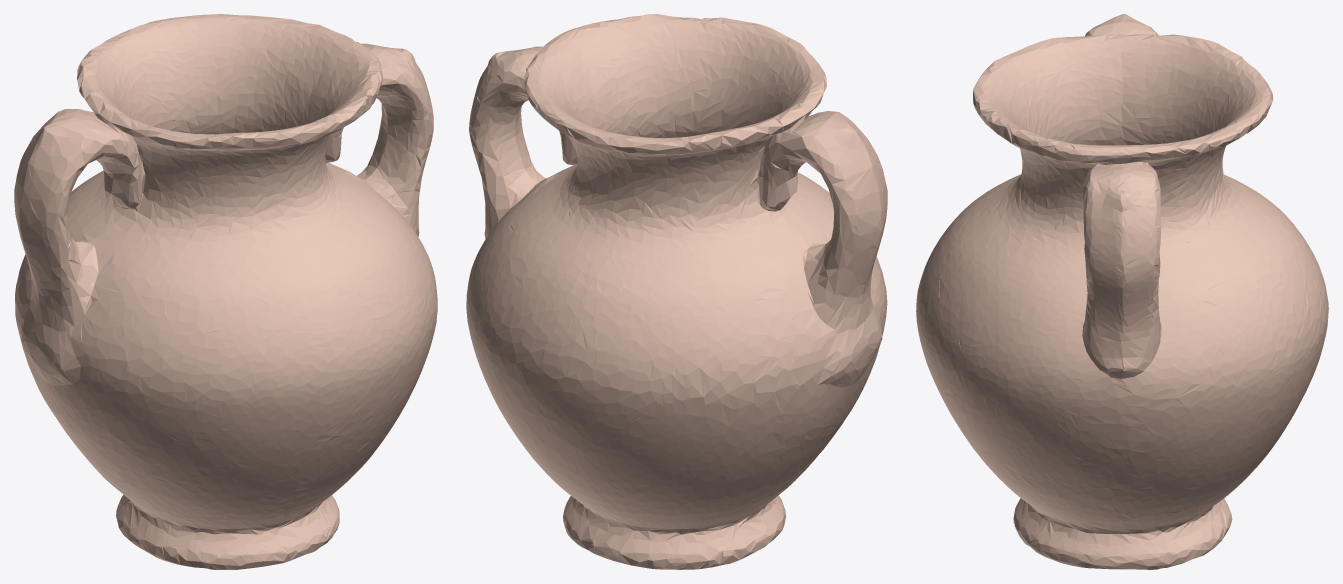
Rendered from amphora_a-greek-amphora-vase-with-two-handles.glb.
The picture shows the model from 3 angles, left to right: view 1: azimuth 30°, elevation 25°; view 2: azimuth 150°, elevation 25°; view 3: azimuth 270°, elevation 25°; orthographic projection. The views are drawn at different scales.
Parts seen in each view (by area): view 1: world; view 2: world; view 3: world.
Boxes of the visible parts, <box> form: world: <box>14,14,437,569</box>; world: <box>466,14,887,569</box>; world: <box>916,14,1328,569</box>.
Bounding box in the file's own units: 1.89 × 2 × 1.69.
